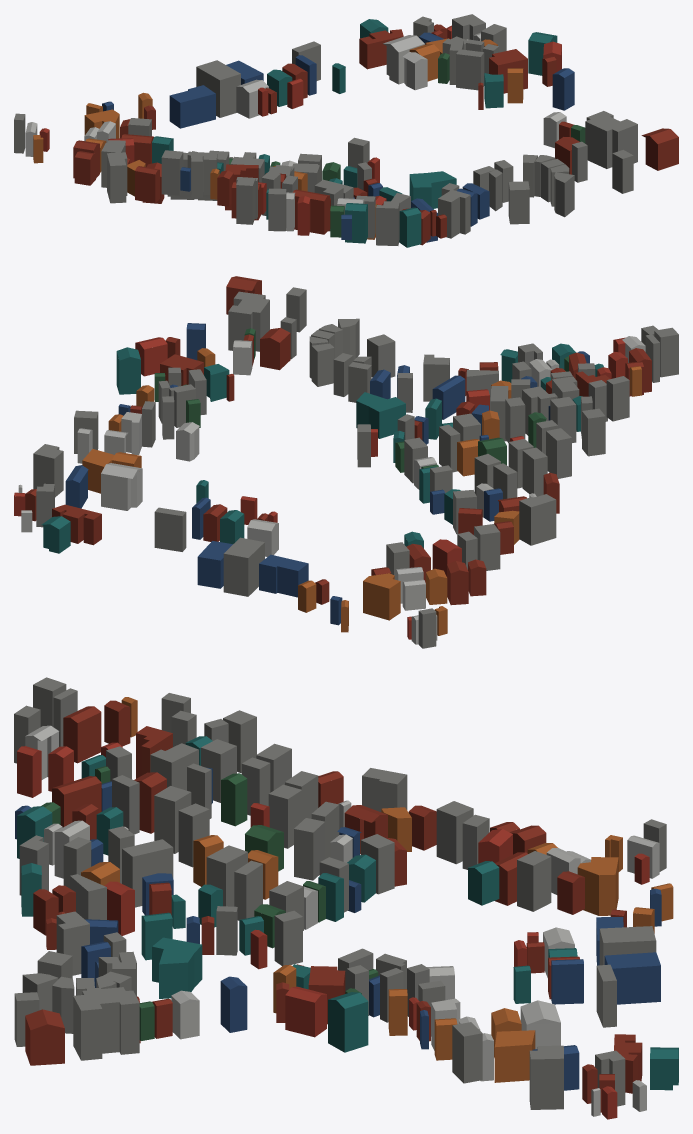
File: near-17-109447-59474.5ef9a285.glb
The picture shows the model from 3 angles, top to bottom: view 1: azimuth 30°, elevation 25°; view 2: azimuth 150°, elevation 25°; view 3: azimuth 270°, elevation 25°; orthographic projection. The views are drawn at different scales.
Size of the model in its own units: 304 by 91.3 by 301.
